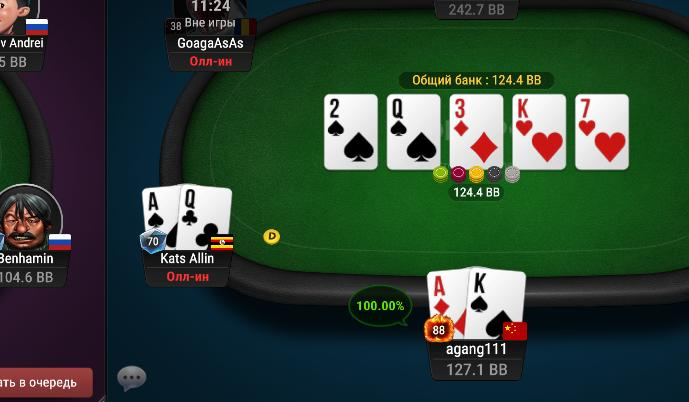2s: (325, 95, 376, 169)
3d: (451, 95, 503, 167)
7h: (576, 95, 629, 170)
Ad: (427, 270, 468, 341)
As: (142, 186, 180, 251)
Kh: (513, 96, 564, 168)
Ks: (467, 267, 525, 342)
Qc: (179, 182, 231, 251)
Qs: (387, 94, 440, 168)
